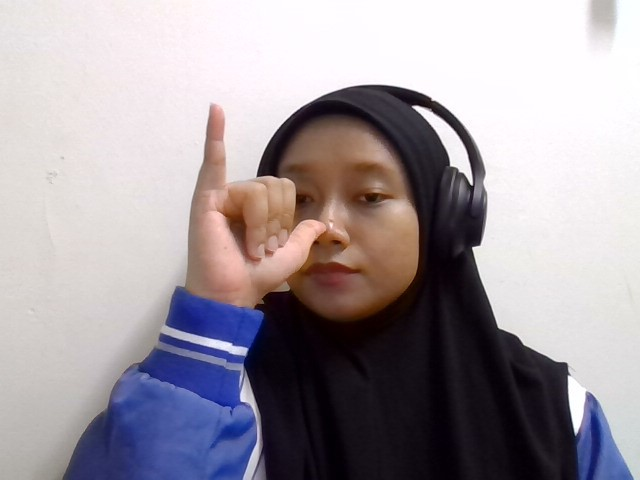BadakSumbu: (184, 102, 365, 301)
